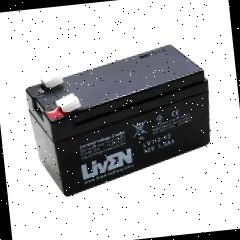electronic: (1, 32, 240, 240)
